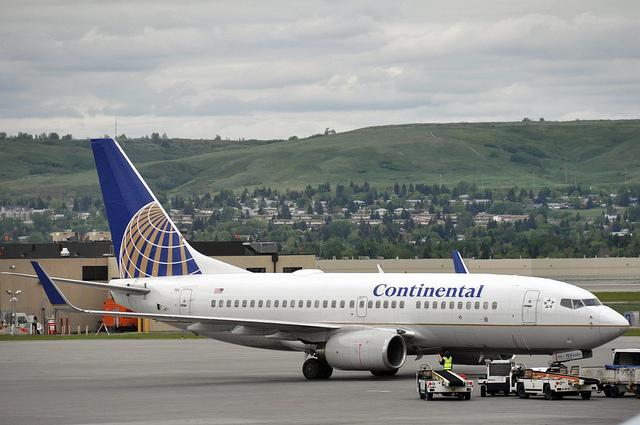airplane: (0, 137, 632, 382)
